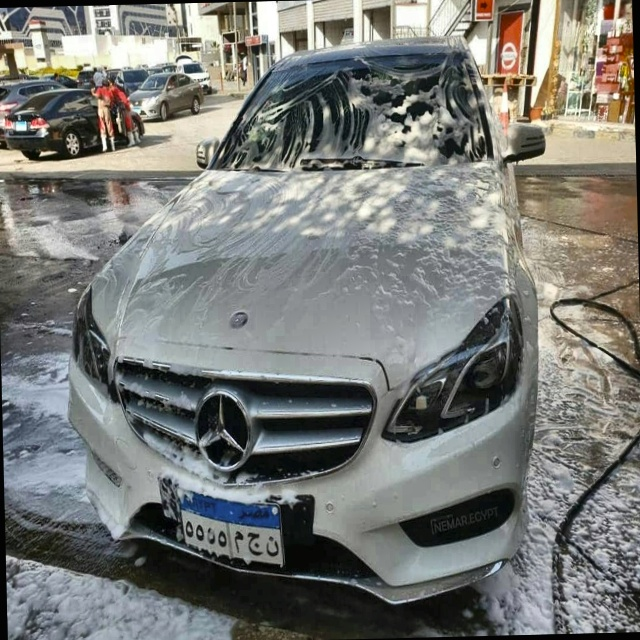License Plate: (175, 483, 288, 571)
